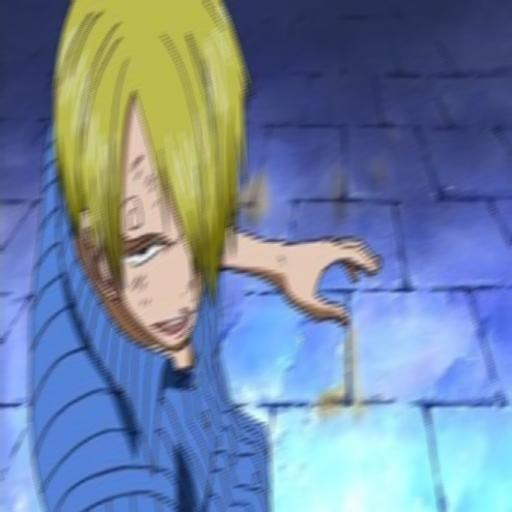sanji: (50, 0, 248, 357)
